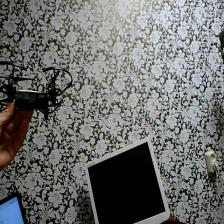drone: (0, 49, 74, 123)
